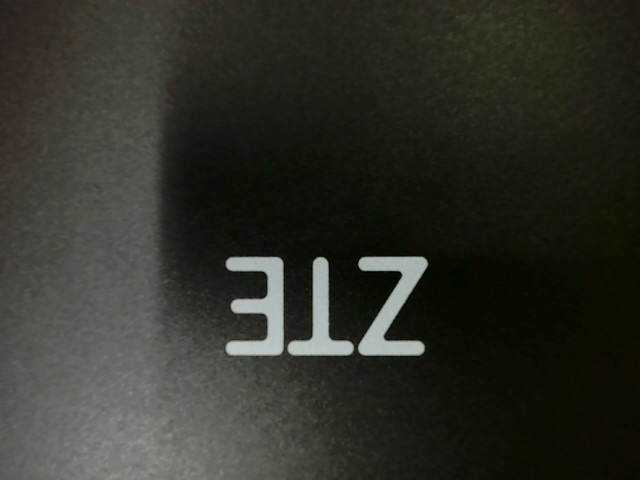AN_ZTE: (213, 248, 434, 361)
